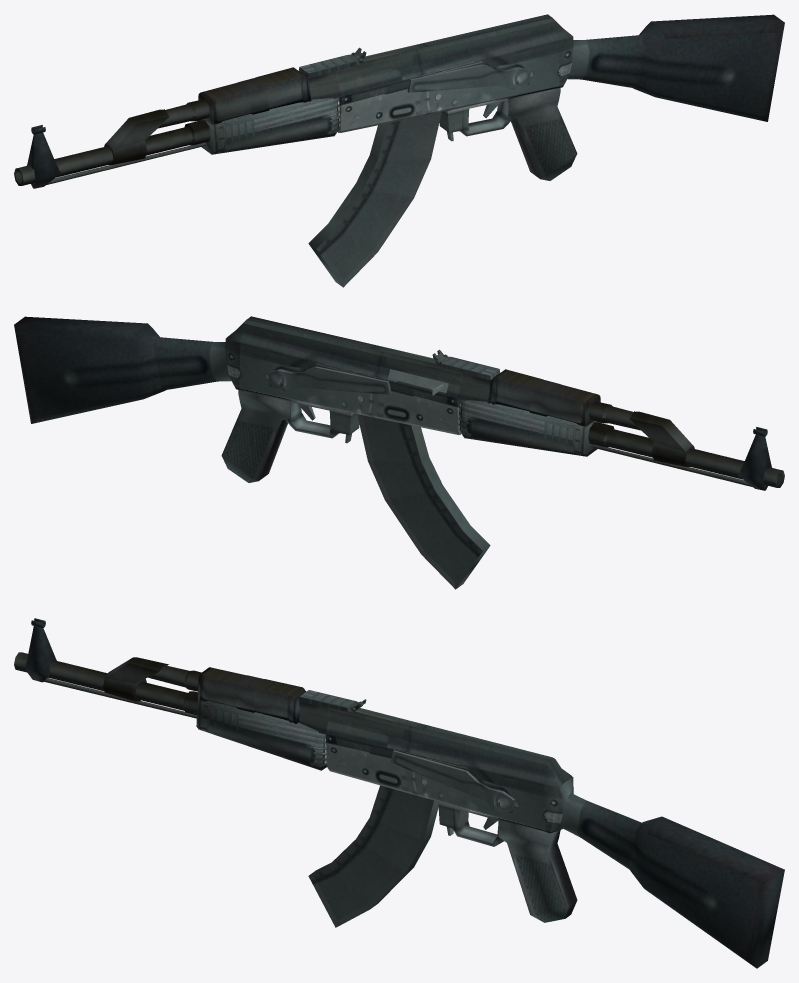
3 views of the same model, one above another, from view 1: azimuth 30°, elevation 25°; view 2: azimuth 150°, elevation 25°; view 3: azimuth 330°, elevation 25° (orthographic).
Visible parts, largest first — view 1: Ak_Frame, AK_Mag, Ak_Dust_Cover, AK_Barrel, Ak_Handguard_Bottom, AK_Grip, Ak_Handguard_top, AK_Safety, AK_Trigger_Guard, AK_Front_Sight, Ak_back_sight; view 2: Ak_Frame, AK_Mag, Ak_Dust_Cover, AK_Barrel, Ak_Handguard_Bottom, AK_Grip, Ak_Handguard_top, AK_Safety, AK_Trigger_Guard, AK_Front_Sight, Ak_back_sight, AK_Slide; view 3: Ak_Frame, AK_Mag, Ak_Dust_Cover, AK_Barrel, AK_Grip, Ak_Handguard_Bottom, Ak_Handguard_top, AK_Safety, AK_Trigger_Guard, AK_Front_Sight, Ak_back_sight.
Boxes of the visible parts, bbox=[...] form: Ak_Frame: bbox=[337, 14, 784, 132]; AK_Mag: bbox=[308, 112, 441, 287]; Ak_Dust_Cover: bbox=[301, 14, 572, 99]; AK_Barrel: bbox=[14, 99, 210, 185]; Ak_Handguard_Bottom: bbox=[197, 98, 340, 154]; AK_Grip: bbox=[507, 88, 577, 180]; Ak_Handguard_top: bbox=[198, 67, 311, 124]; AK_Safety: bbox=[407, 64, 530, 92]; AK_Trigger_Guard: bbox=[439, 98, 512, 141]; AK_Front_Sight: bbox=[27, 125, 60, 188]; Ak_back_sight: bbox=[298, 47, 366, 78]; Ak_Frame: bbox=[14, 316, 461, 434]; AK_Mag: bbox=[357, 414, 490, 589]; Ak_Dust_Cover: bbox=[226, 316, 497, 401]; AK_Barrel: bbox=[588, 401, 784, 487]; Ak_Handguard_Bottom: bbox=[458, 400, 601, 456]; AK_Grip: bbox=[221, 390, 291, 482]; Ak_Handguard_top: bbox=[487, 369, 600, 426]; AK_Safety: bbox=[268, 366, 391, 394]; AK_Trigger_Guard: bbox=[286, 400, 359, 443]; AK_Front_Sight: bbox=[738, 427, 771, 490]; Ak_back_sight: bbox=[432, 349, 500, 380]; AK_Slide: bbox=[388, 369, 448, 395]; Ak_Frame: bbox=[325, 734, 784, 968]; AK_Mag: bbox=[308, 785, 438, 927]; Ak_Dust_Cover: bbox=[299, 701, 572, 786]; AK_Barrel: bbox=[14, 652, 334, 750]; AK_Grip: bbox=[498, 818, 577, 922]; Ak_Handguard_Bottom: bbox=[196, 700, 327, 770]; Ak_Handguard_top: bbox=[198, 667, 306, 723]; AK_Safety: bbox=[391, 750, 514, 812]; AK_Trigger_Guard: bbox=[438, 802, 503, 846]; AK_Front_Sight: bbox=[24, 618, 56, 682]; Ak_back_sight: bbox=[298, 690, 366, 711].
Size of the model in its own units: 458 by 133 by 25.18.
1 material, 1 textured.
